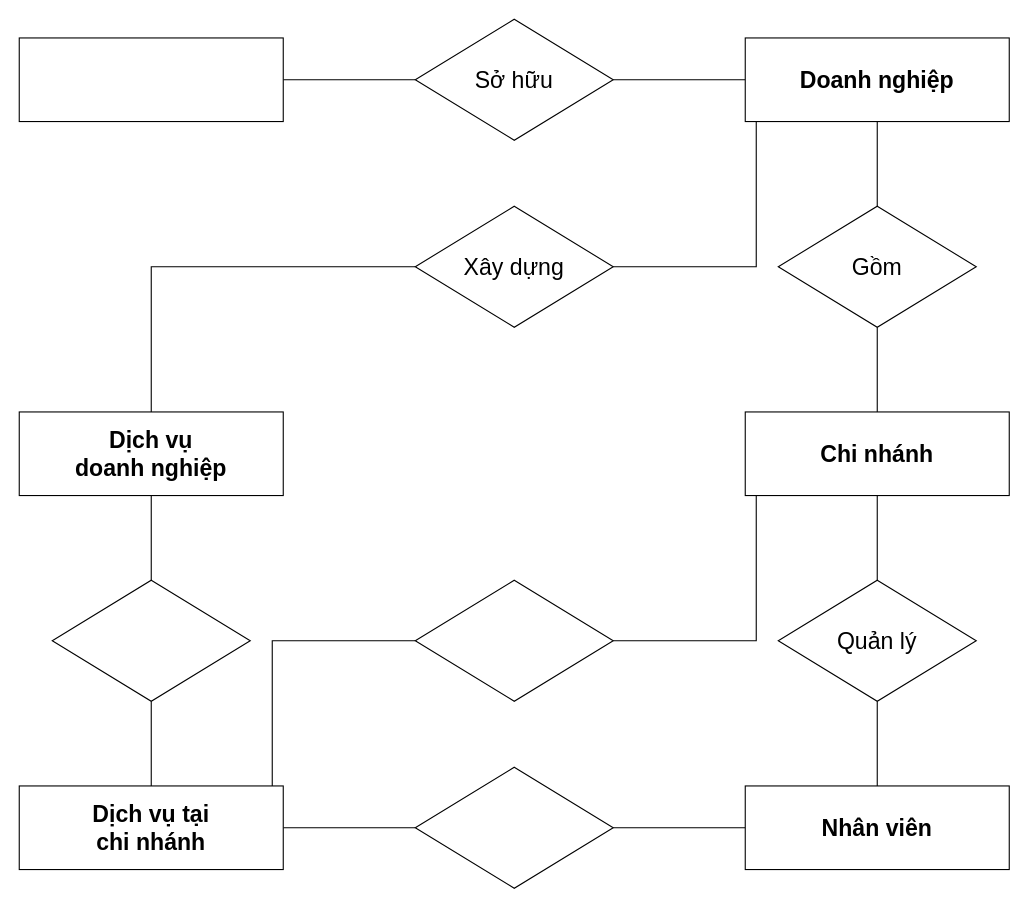
This 1029x908 diagram has some shape labels left out. The shapes that lost their labels are listed below. From the top down, each one's centre as x and y in pixels, then its label:
At pixel 150 79: "Chủ cơ sở".
At pixel 150 640: "Triển khai".
At pixel 513 640: "Cung cấp".
At pixel 513 827: "Có năng lực thực hiện".
